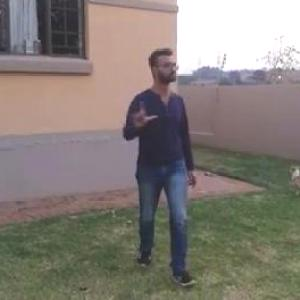land_hand: (126, 93, 159, 132)
